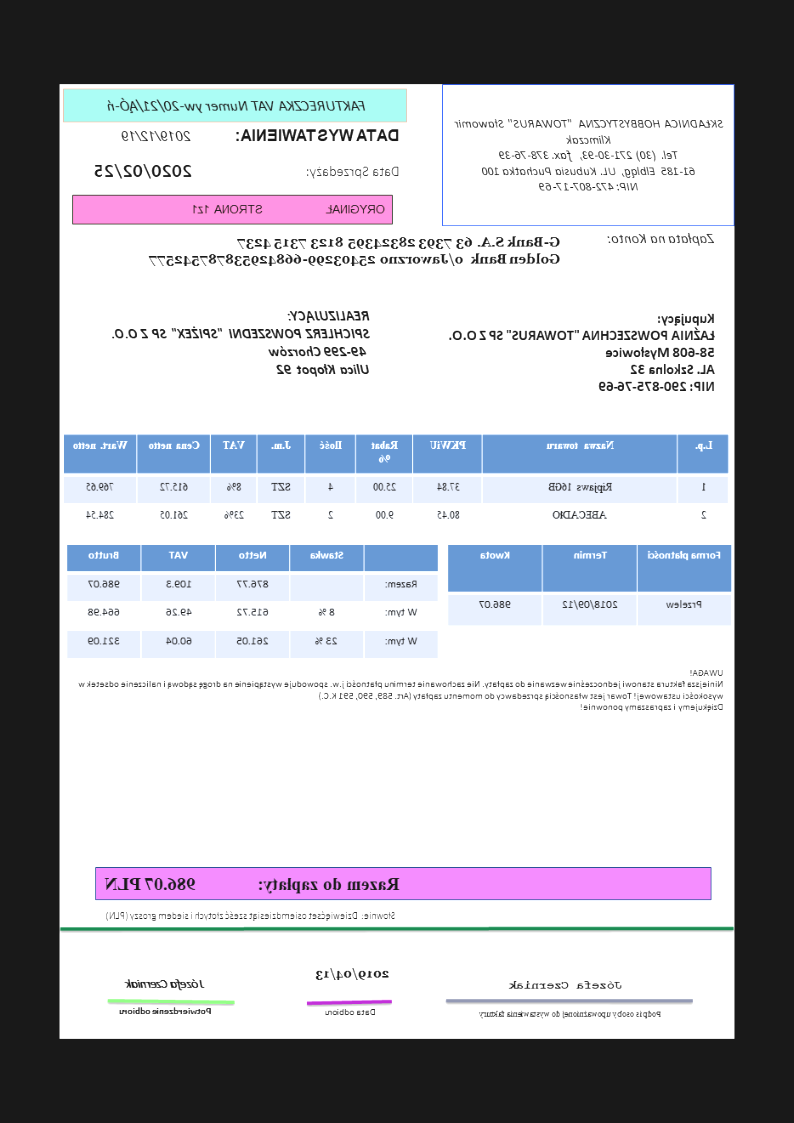Table: (64, 431, 730, 535), (65, 543, 439, 661), (448, 543, 733, 628)
TextBox: (76, 665, 726, 715), (447, 309, 717, 394), (451, 114, 728, 195), (109, 306, 372, 379), (146, 231, 563, 271), (104, 872, 402, 895), (103, 94, 370, 117), (102, 907, 398, 924), (188, 199, 388, 218), (233, 124, 402, 145), (477, 1006, 664, 1020), (92, 159, 195, 180), (304, 161, 401, 181), (607, 229, 716, 246), (117, 125, 195, 145), (122, 974, 208, 992), (508, 978, 625, 991), (315, 965, 393, 984), (116, 1004, 214, 1018), (322, 1005, 379, 1018)
